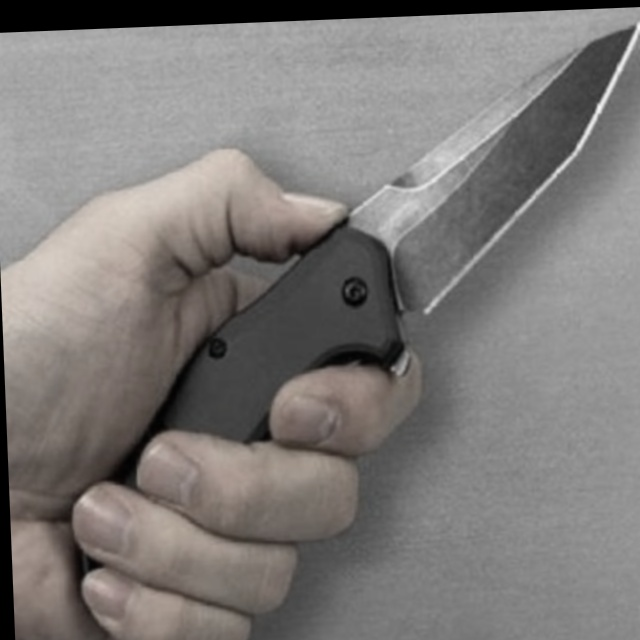Sharp-Object: (57, 24, 640, 579)
